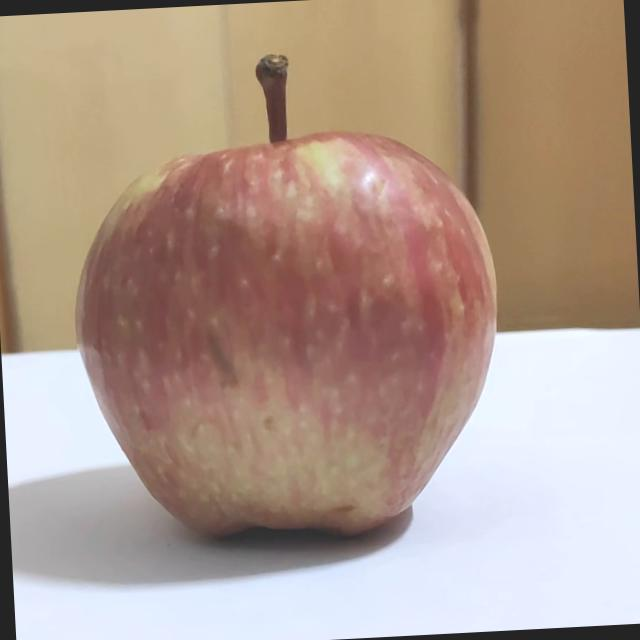apple: (56, 42, 518, 558)
